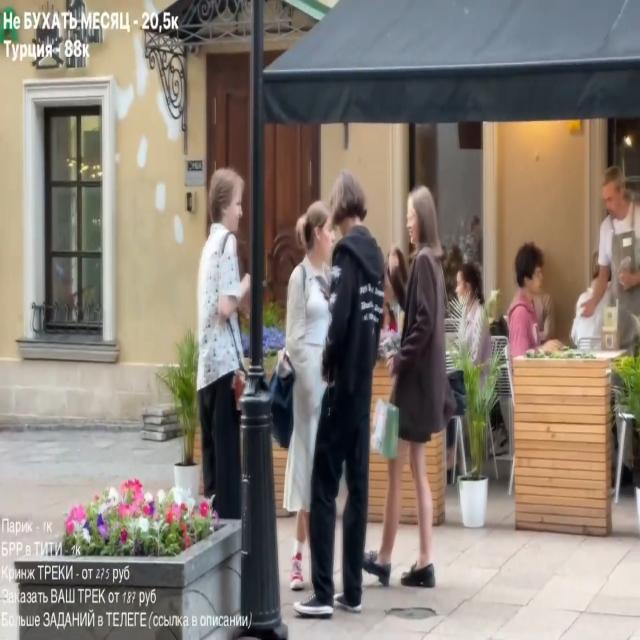Person: (277, 186, 384, 622), (386, 195, 454, 598), (191, 154, 252, 552), (574, 169, 640, 357), (505, 243, 562, 352)
